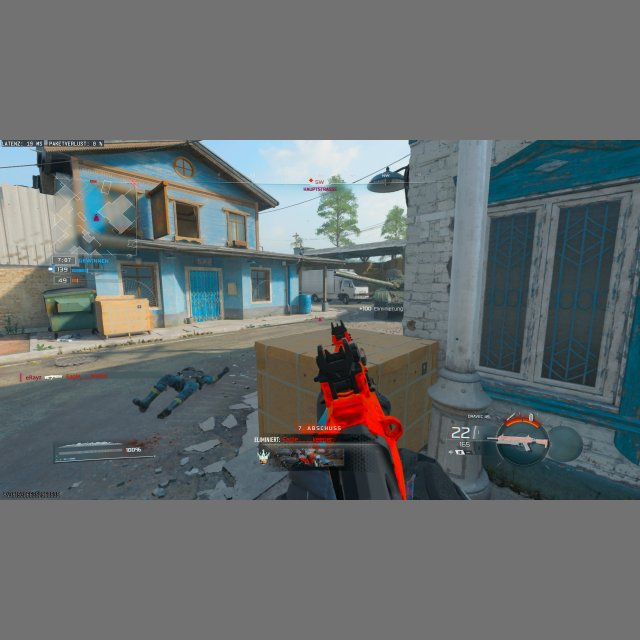head: (330, 322, 351, 349)
